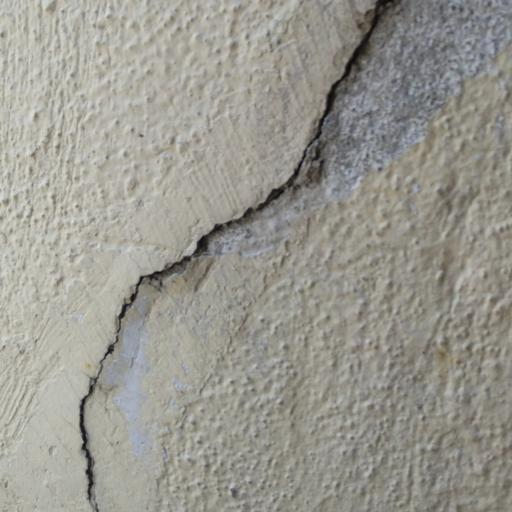major_crack: (70, 0, 395, 512)
